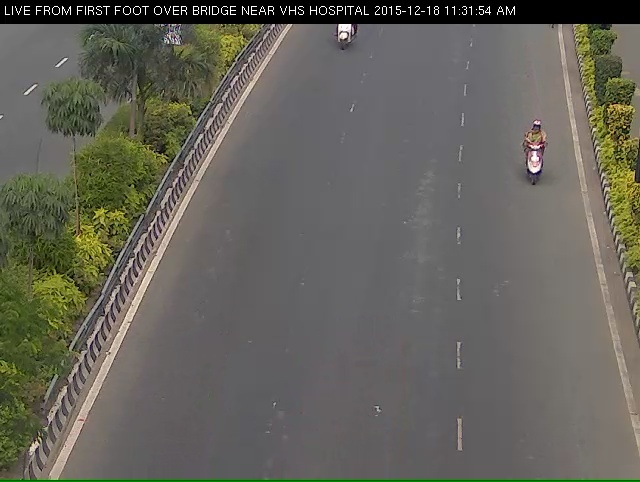Person: (513, 127, 559, 209), (320, 19, 366, 62)
